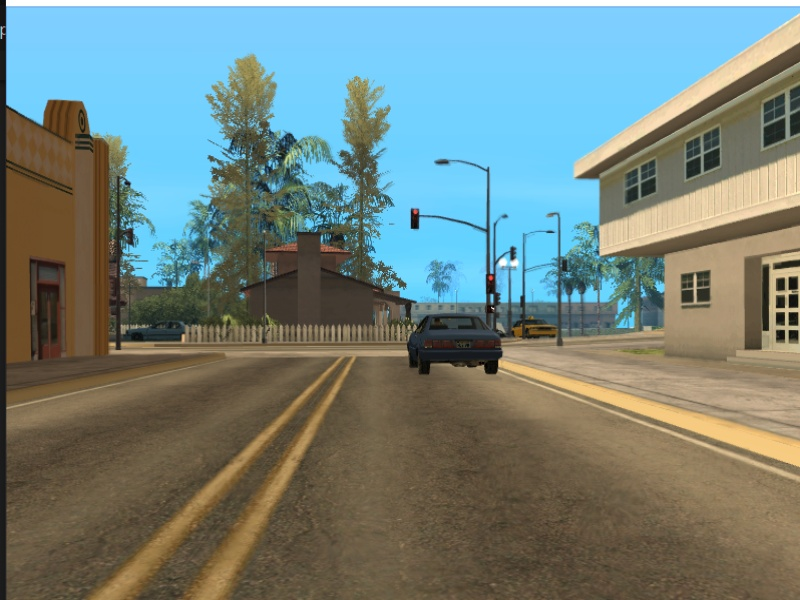pole: (480, 167, 505, 330), (113, 176, 125, 349), (554, 213, 567, 349)
vehicle: (405, 311, 507, 377), (124, 318, 195, 344), (514, 315, 556, 342)
